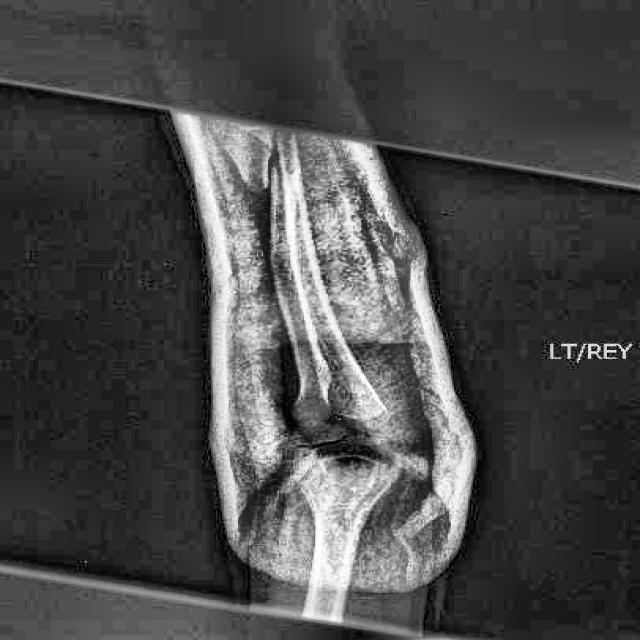forearm fracture: (246, 149, 313, 247)
